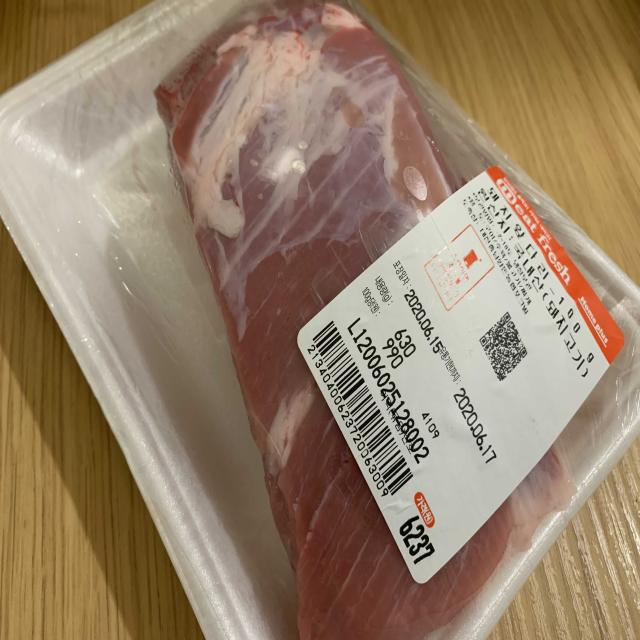pork: (141, 0, 562, 640)
